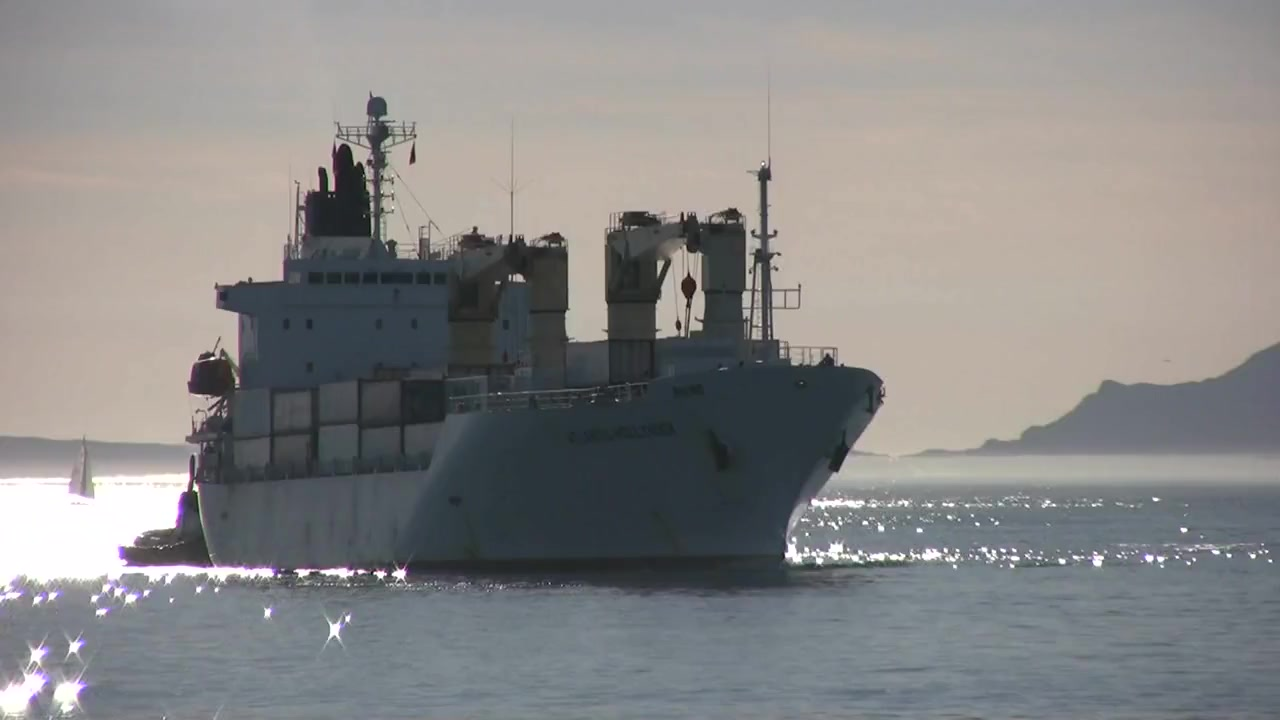boat: (190, 89, 888, 588), (117, 463, 219, 575), (70, 437, 100, 498)
